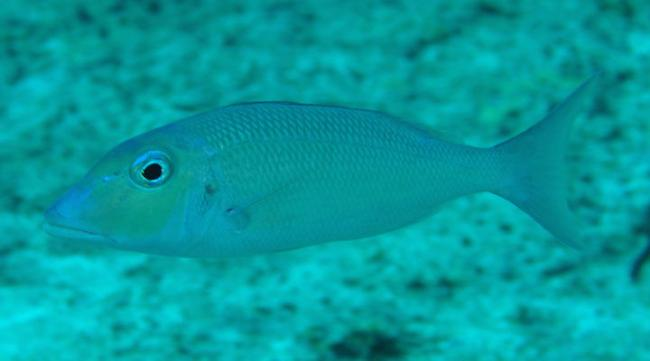fish: (45, 72, 595, 261)
